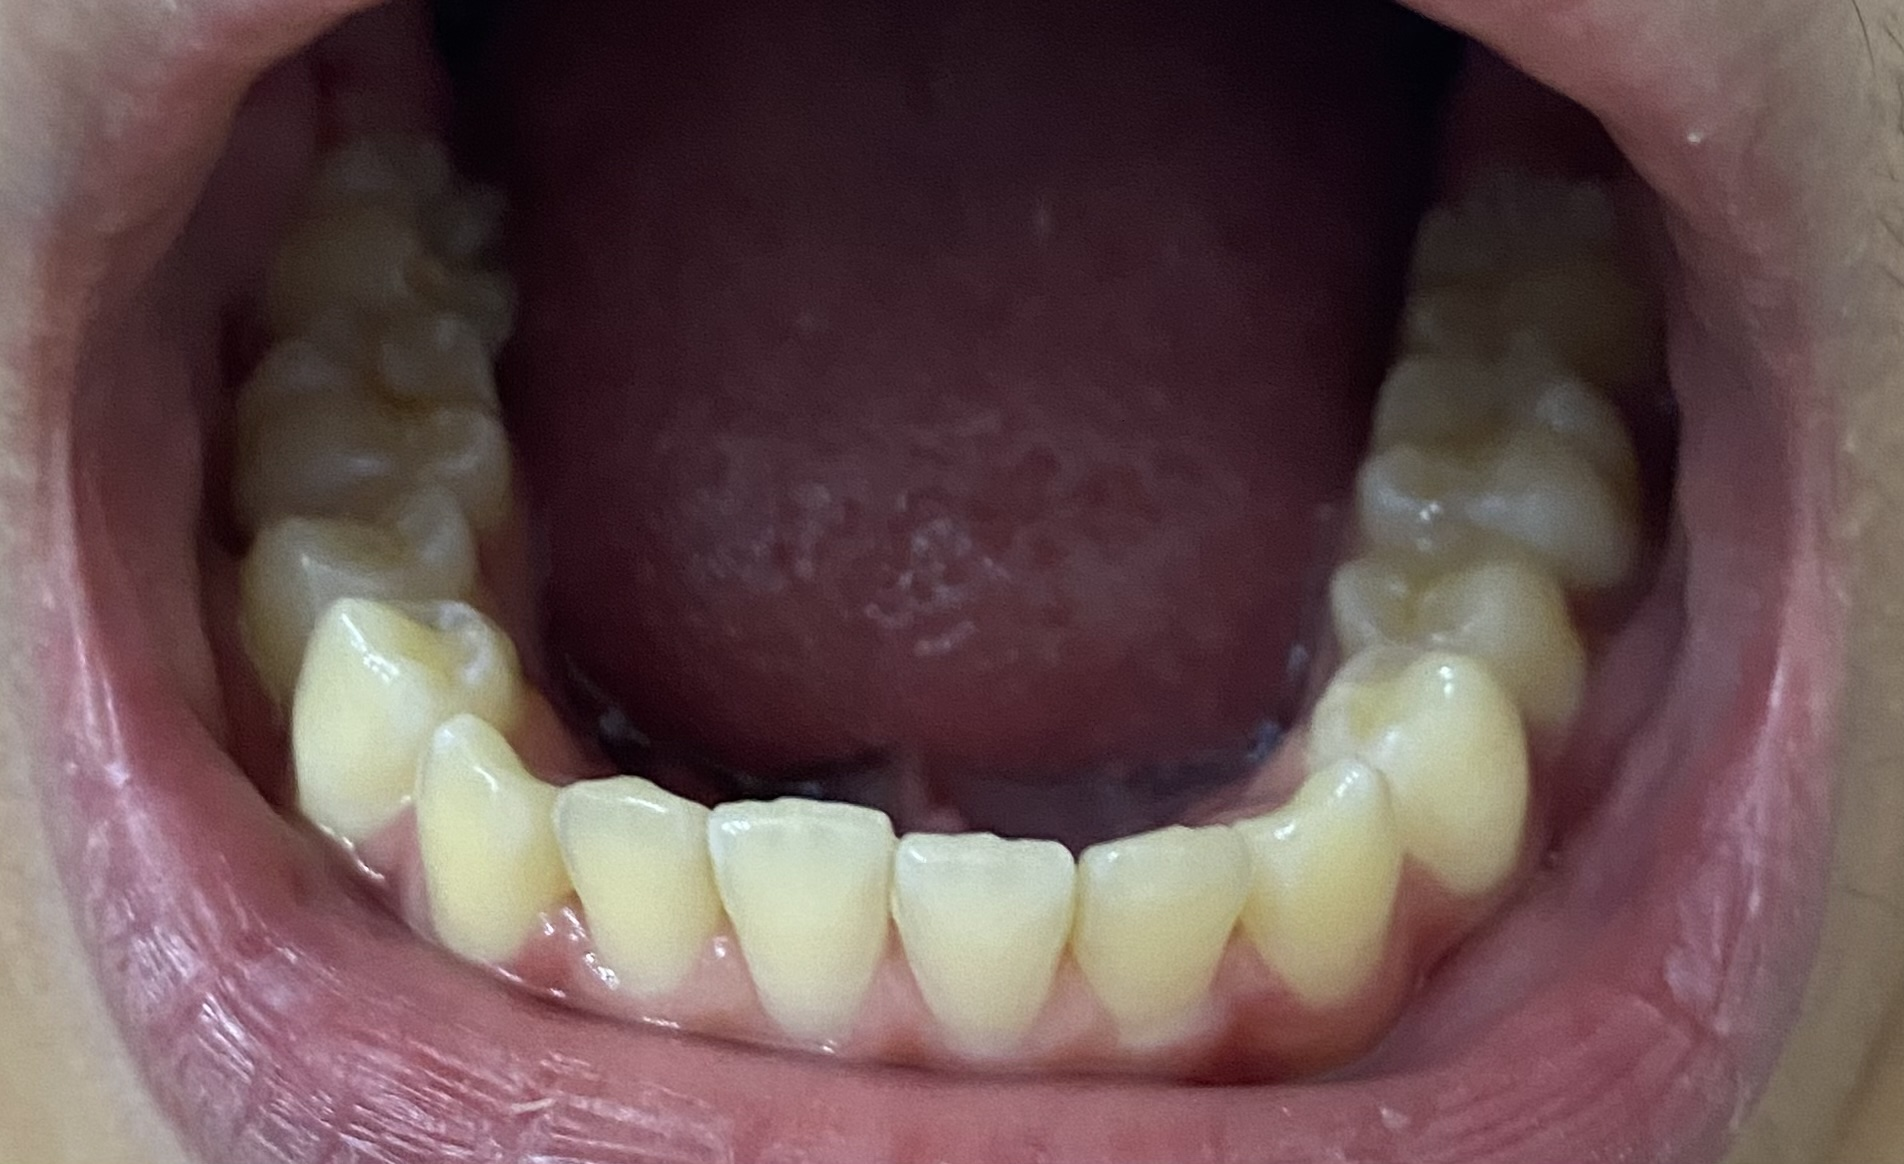teeth: (239, 314, 496, 522), (294, 605, 511, 850), (1363, 356, 1631, 548), (1321, 661, 1525, 902), (1336, 548, 1575, 726), (254, 506, 468, 688), (898, 831, 1066, 1055), (722, 813, 883, 1027), (1093, 836, 1238, 1040), (1268, 785, 1395, 998), (562, 795, 700, 980), (426, 767, 549, 965)
